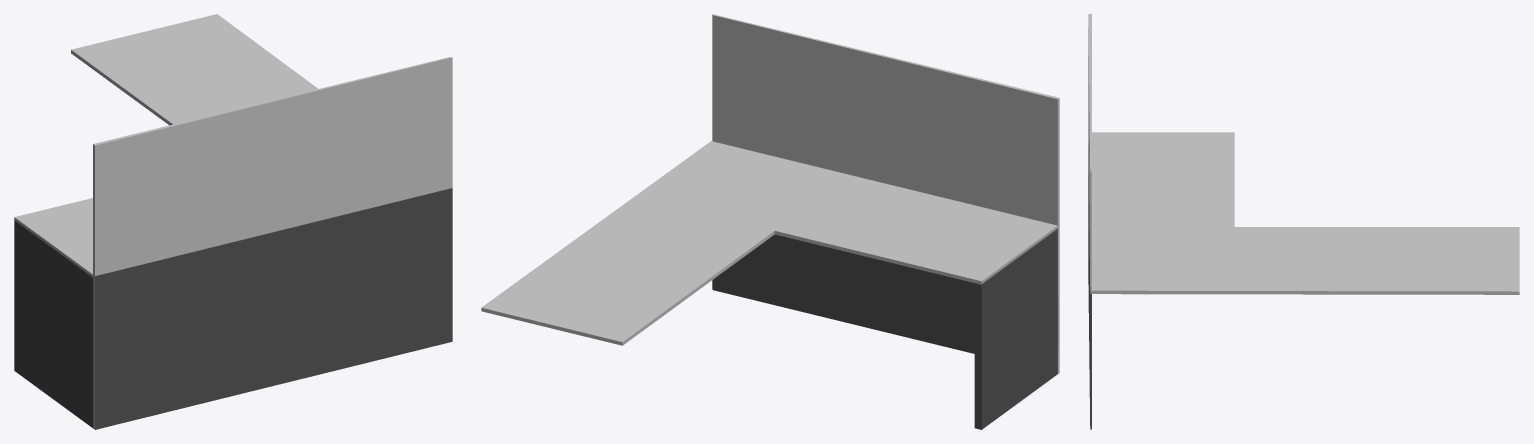
File: TableTextured_v1.fbx
The picture shows the model from 3 angles, left to right: view 1: azimuth 30°, elevation 25°; view 2: azimuth 150°, elevation 25°; view 3: azimuth 270°, elevation 25°; orthographic projection. The views are drawn at different scales.
Visible parts, largest first — view 1: Table; view 2: Table; view 3: Table.
Boxes of the visible parts, x1,y1,x2,y2 form: Table: [14, 14, 452, 429]; Table: [481, 14, 1059, 429]; Table: [1088, 14, 1519, 429].
Bounding box in the file's own units: 5.05 × 3.81 × 5.78.
